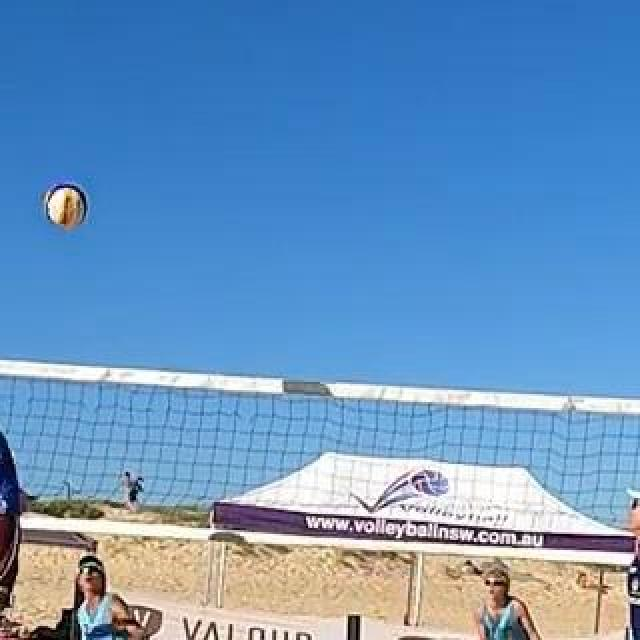volleyball: (45, 184, 89, 228)
